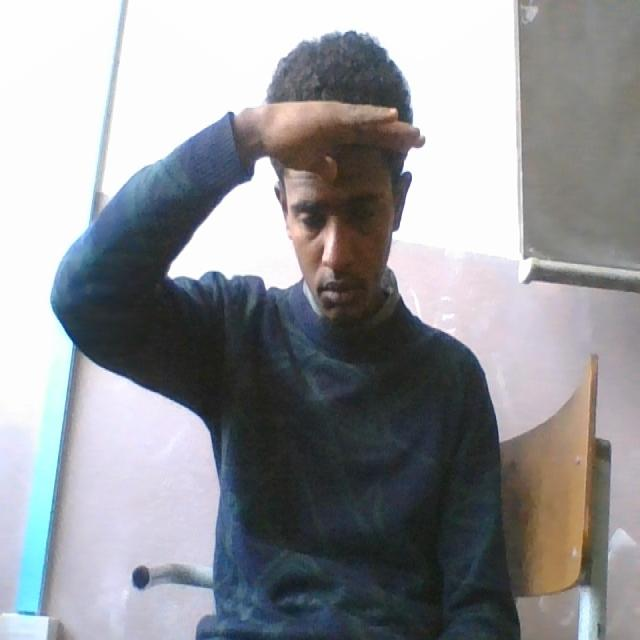abat: (226, 72, 443, 218)
